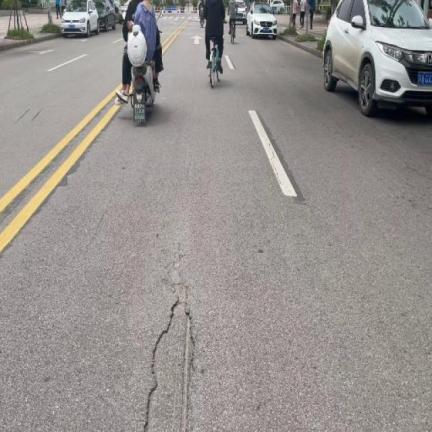Road: (0, 15, 431, 431)
